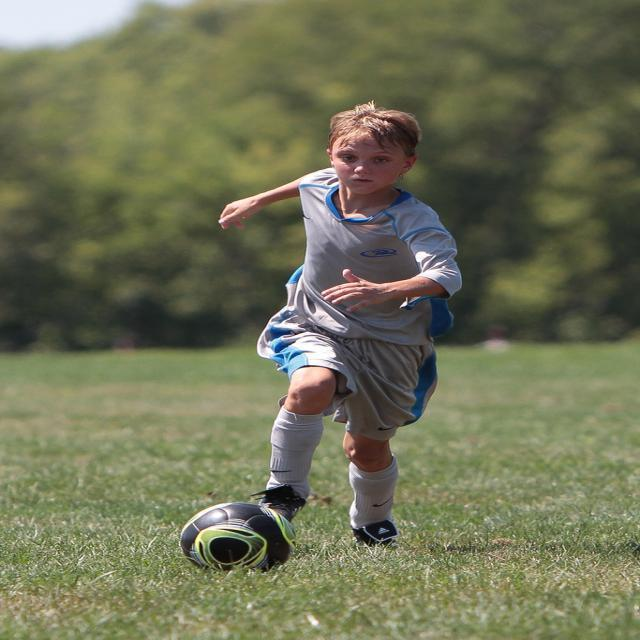football: (173, 488, 300, 588)
